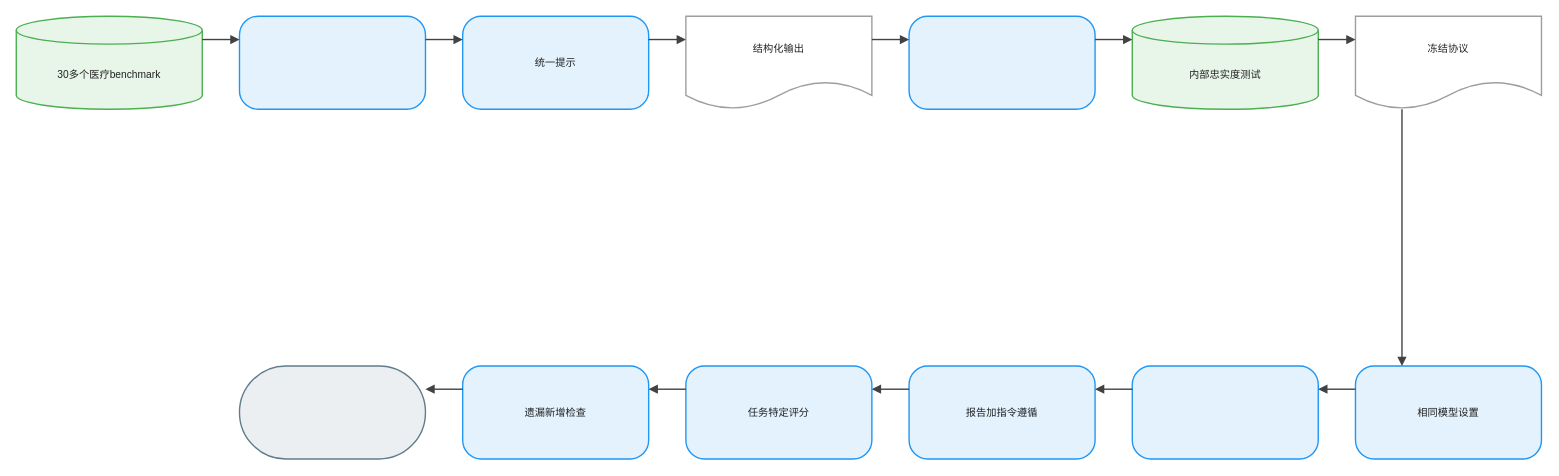
This 1559x476 diagram has some shape labels left out. Here are the shapes that lost their labels. From the top down, the box of each, then its label:
(238, 15, 426, 110): 6类能力
(908, 15, 1095, 110): 官方指标
(238, 365, 426, 459): 能力分组报告
(1131, 365, 1319, 459): 视觉诊断加文本
